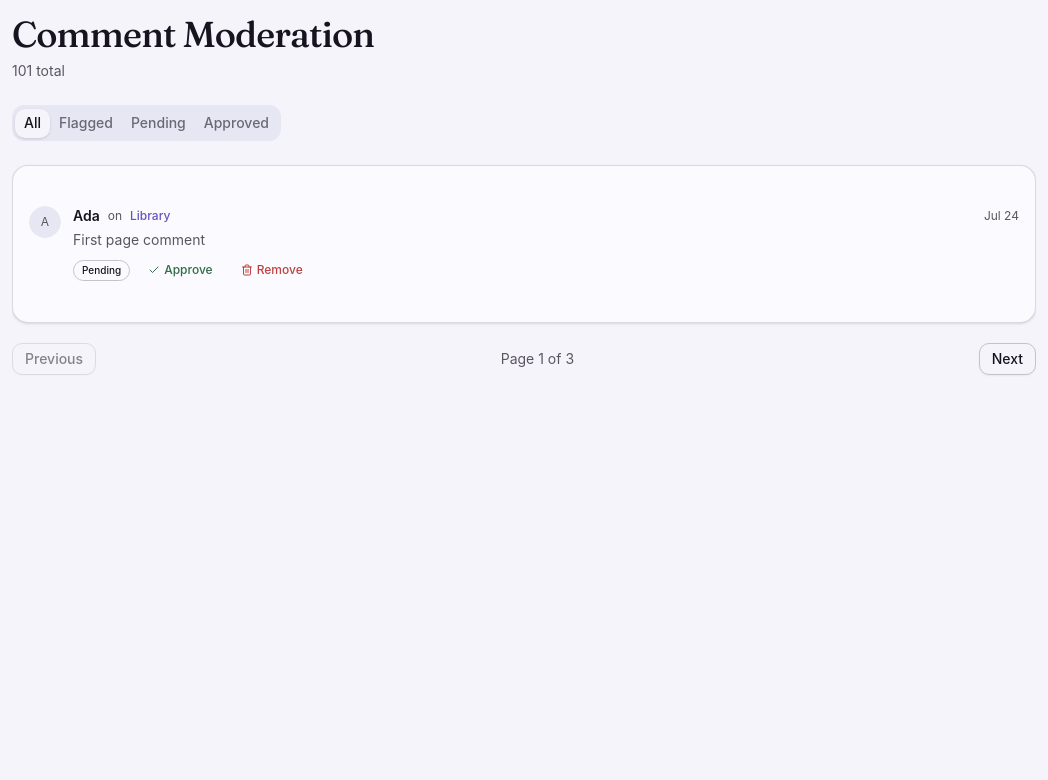
Test: AdminCommentsPage › renders server-ordered page-two rows and resets to page zero when a filter changes
Check: the text "Page 1 of 3" is shown, box [501,349,574,369]
Click the button "Next": (1007, 359) [979,343,1036,375]
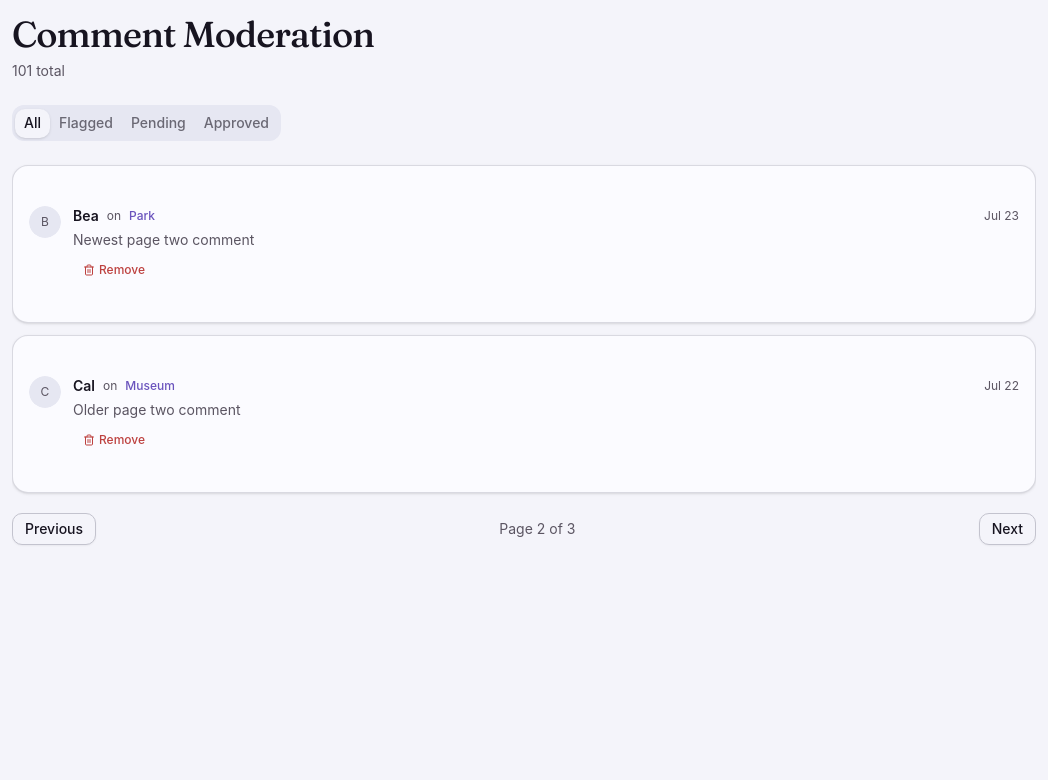
Check: the text "Page 2 of 3" is shown, box [499,519,576,539]
Check: the text "Newest page two comment" is shown, box [73,231,254,248]
Check: the text "Older page two comment" is shown, box [73,401,241,418]
Press the mouse on the tab "Flagged": (86, 123) [50,108,122,138]
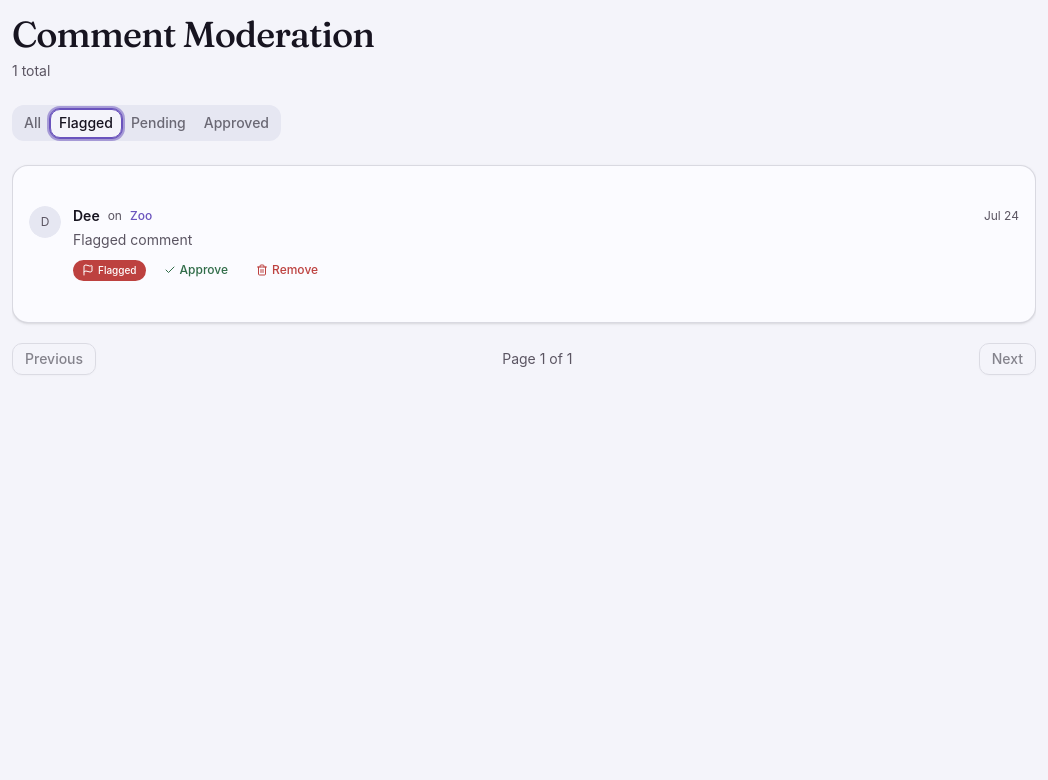
Check: the text "Page 1 of 1" is shown, box [502,349,573,369]
Check: the text "Flagged comment" is shown, box [73,231,192,248]
